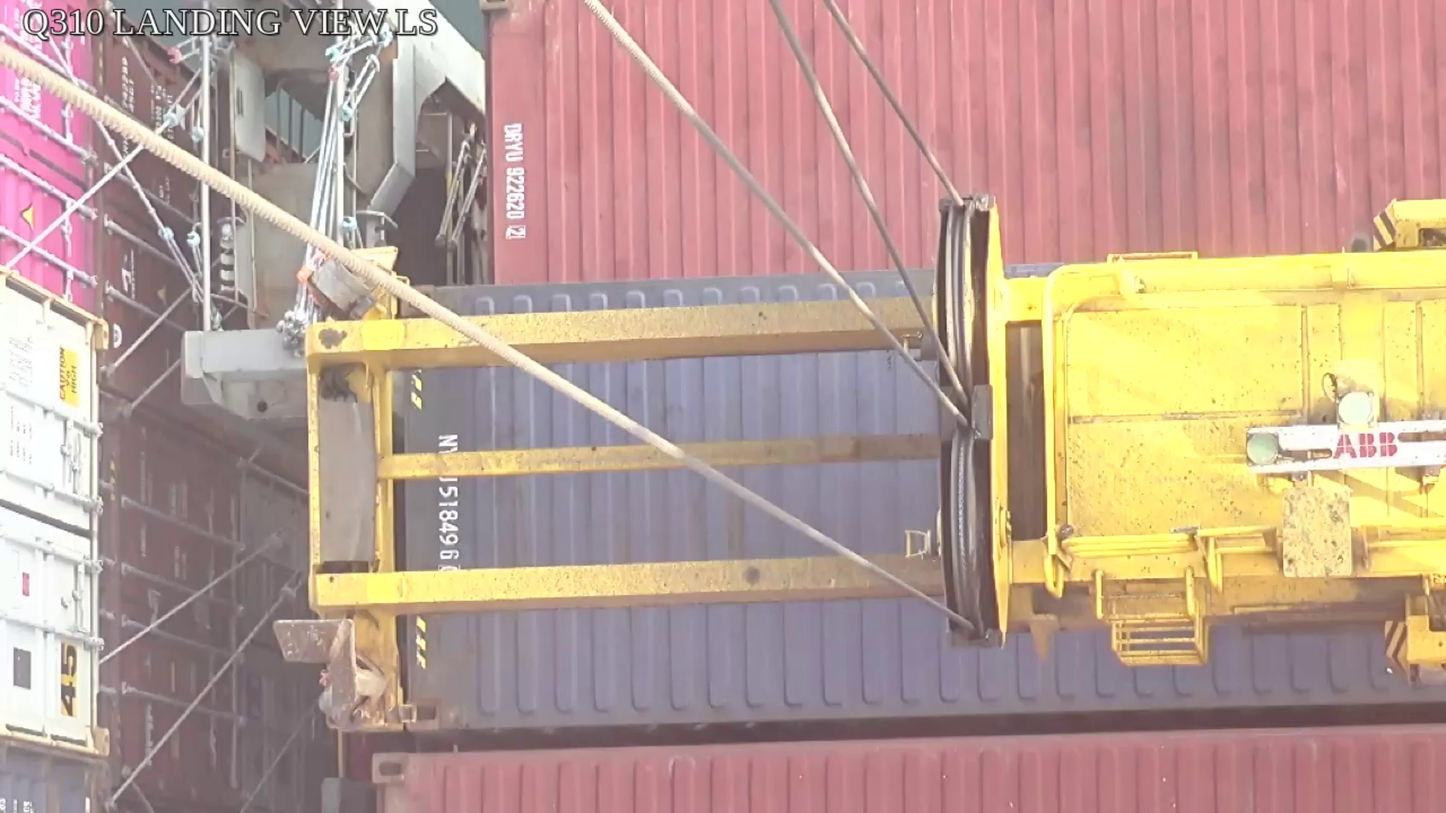aa: (935, 195, 1016, 648)
